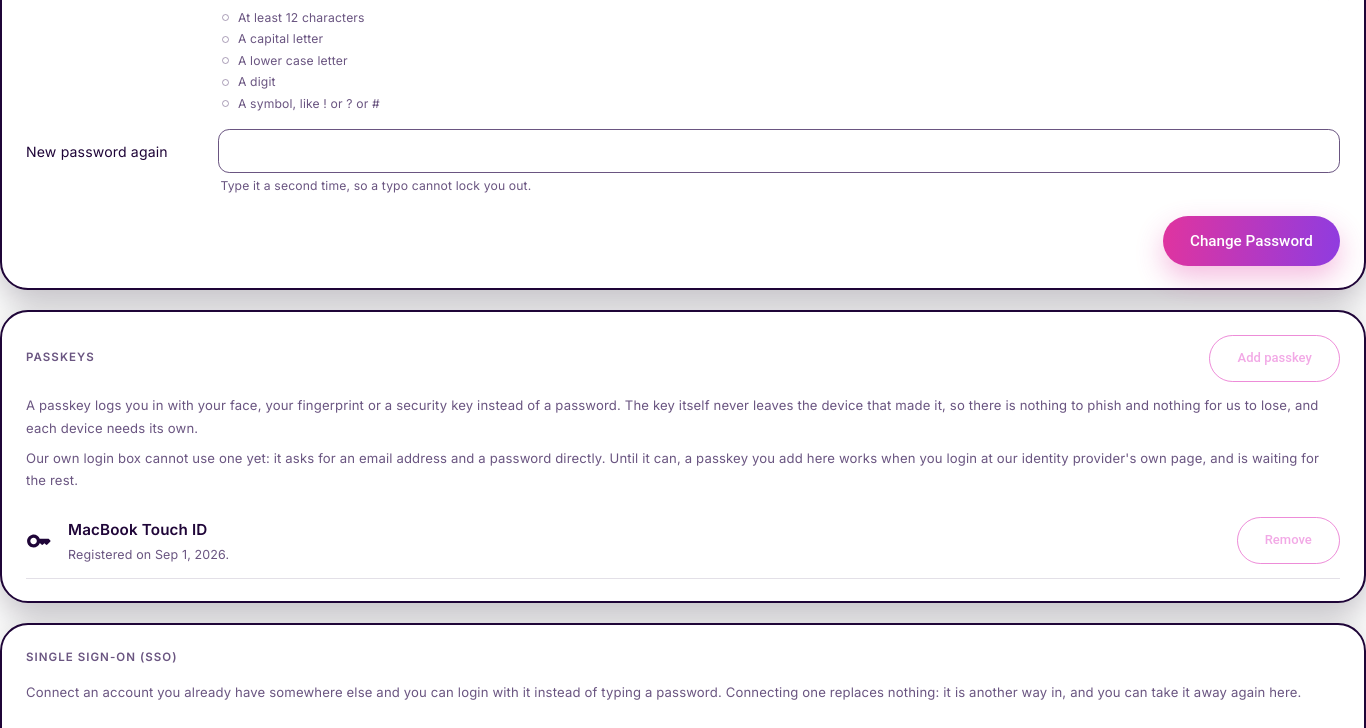
Test case: adding a passkey › says so rather than going quiet when the provider cannot be reached
(page scrolled)
Click the button "Add passkey" at (1275, 358), box [1209,334,1340,382]
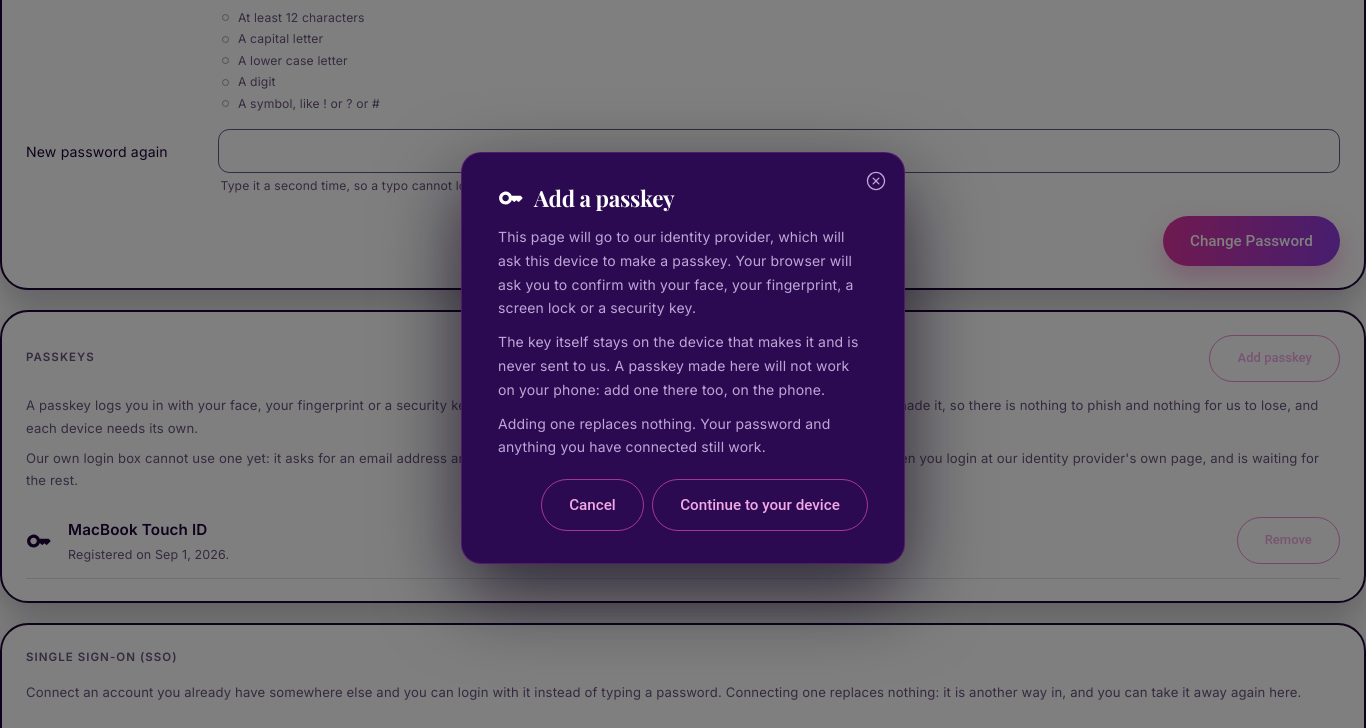
Click the button "Continue to your device" at (760, 505), box [652,479,868,531]
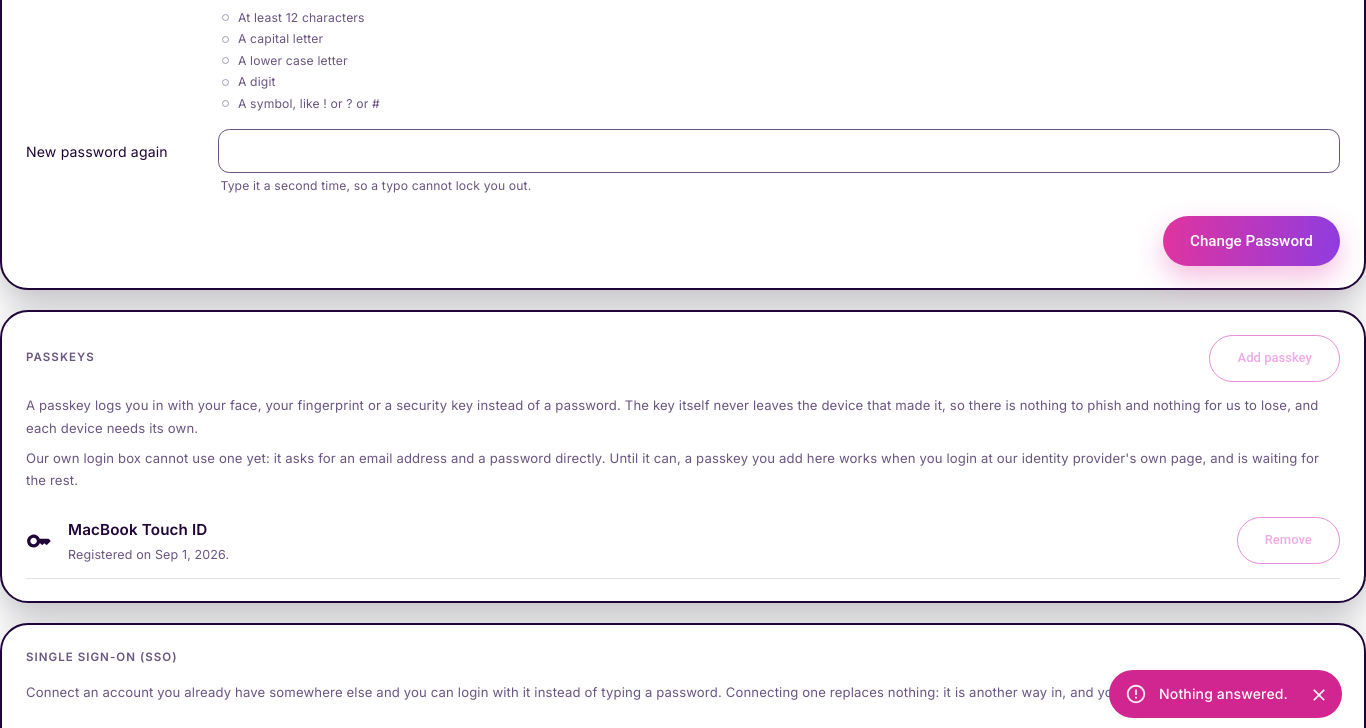
Check: the text "Nothing answered." is shown, box [1159,685,1288,702]
